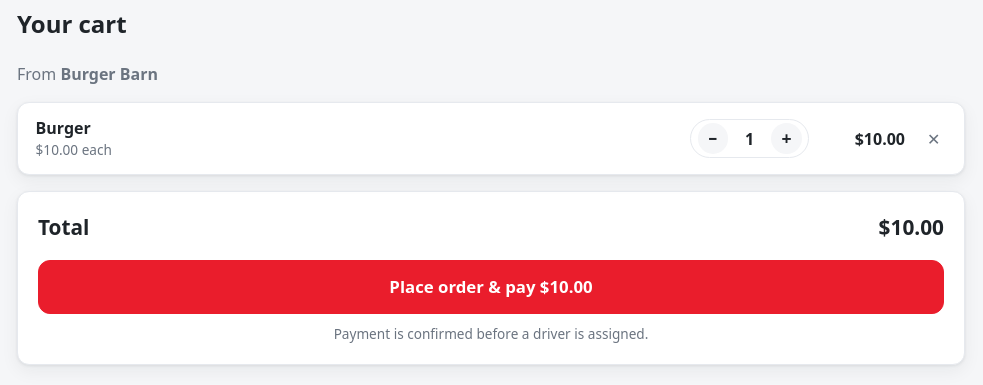
Test case: CartComponent › removing the last line shows the empty state
Click the button with test id "remove" at (934, 139), box [921,126,946,152]
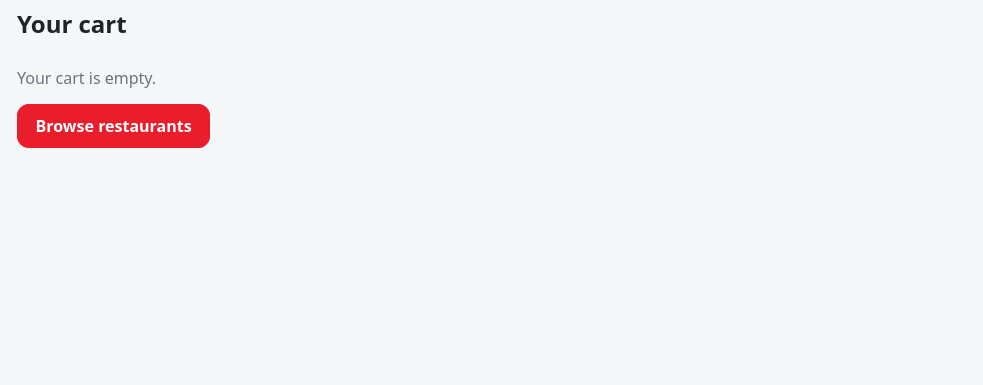
Expected: the text "Your cart is empty." is shown, [17,67,156,89]
